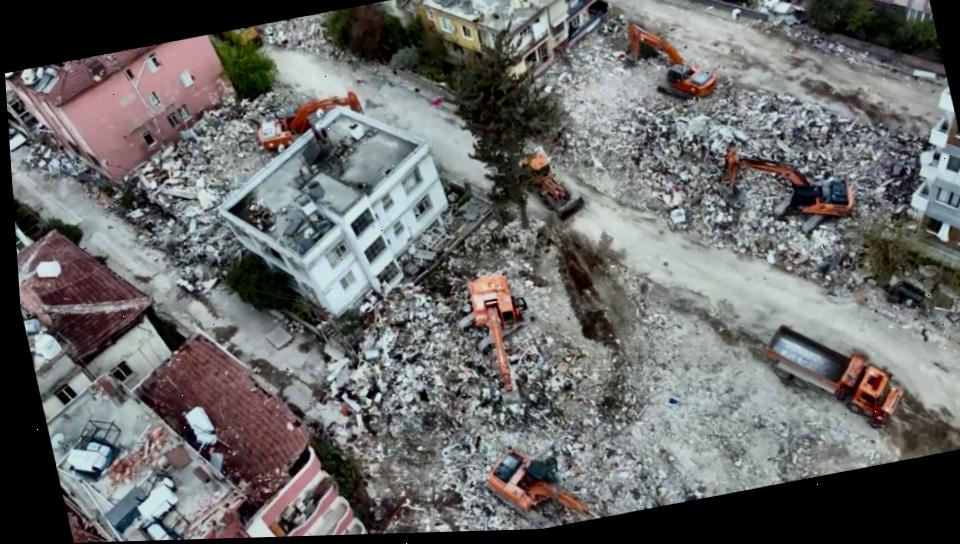kapali: (267, 338, 543, 532)
